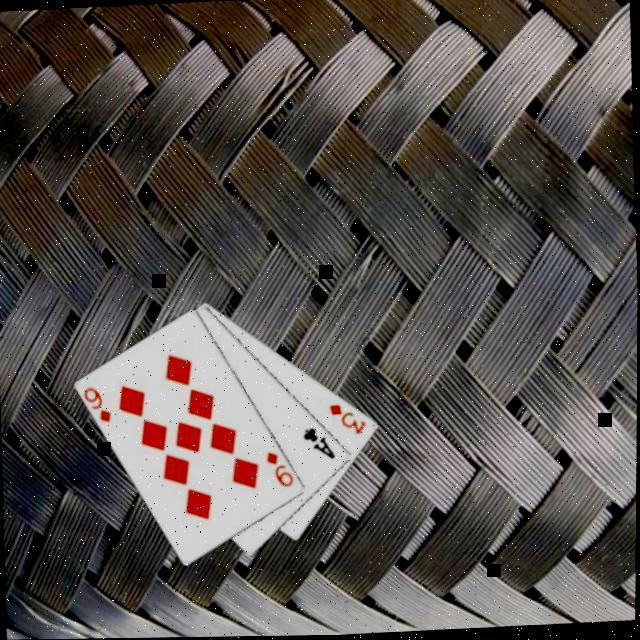3D: (327, 402, 371, 442)
9D: (266, 450, 299, 493), (83, 385, 116, 428)
AC: (302, 426, 341, 465)
